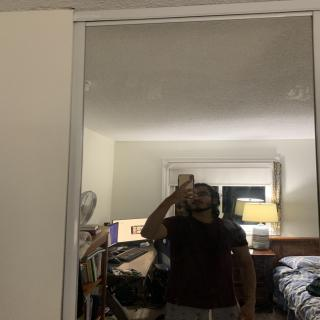Maroon T-Shirt: (162, 213, 234, 311)
